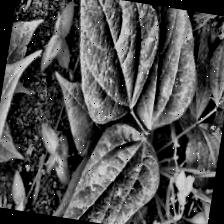Bean Rust: (54, 0, 164, 129), (55, 118, 166, 224), (124, 4, 208, 136)
